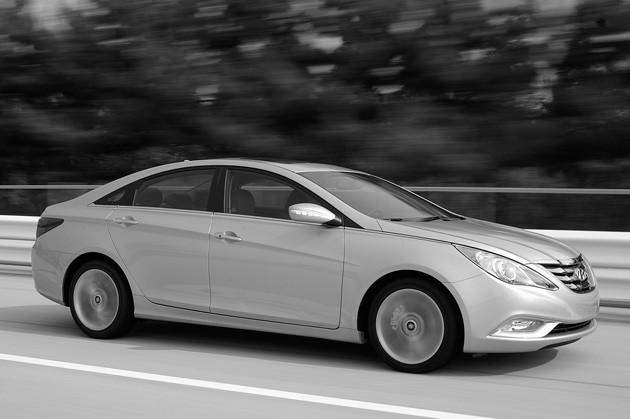car: (32, 159, 600, 377)
